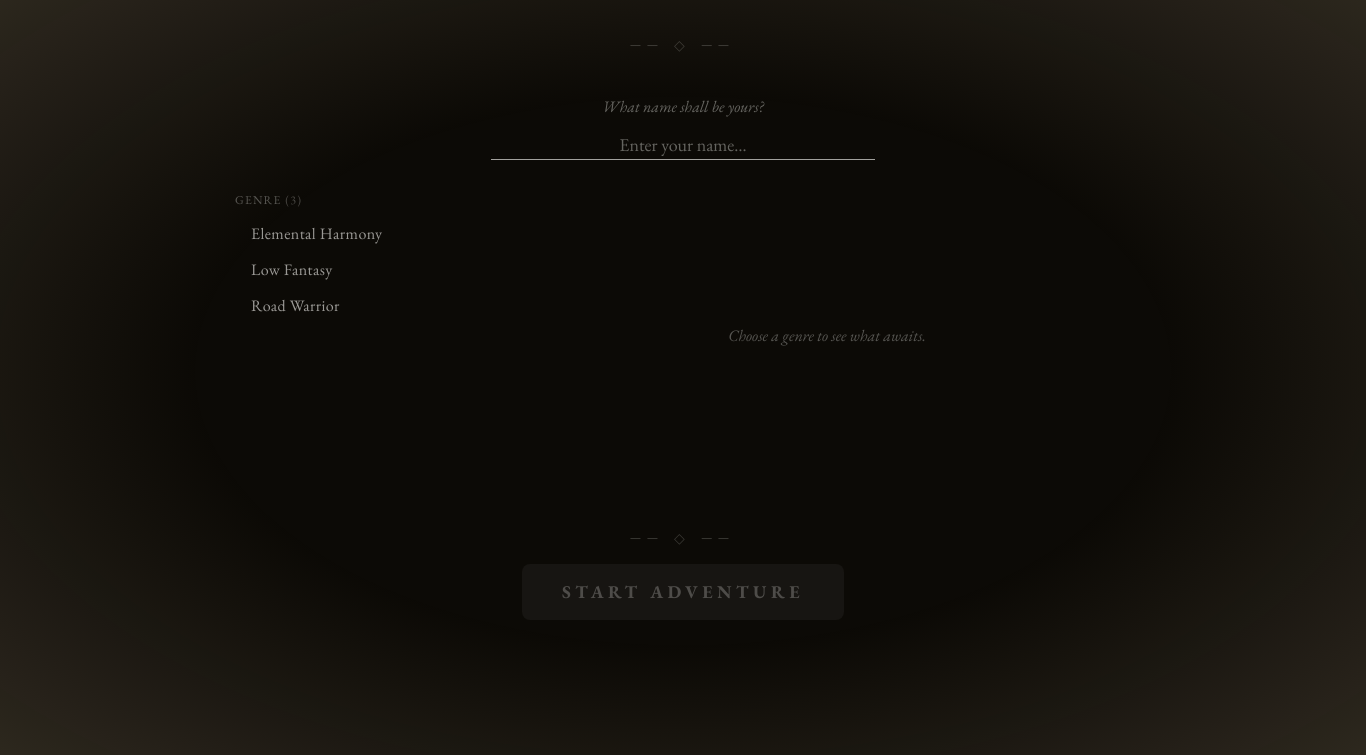
Test case: AC-1: new player enters character creation › displays the first scene narration text
Type "TestHero" into the field named "player name".
click(683, 146); type("TestHero")  # box [491,131,875,160]
Wait 100 ms
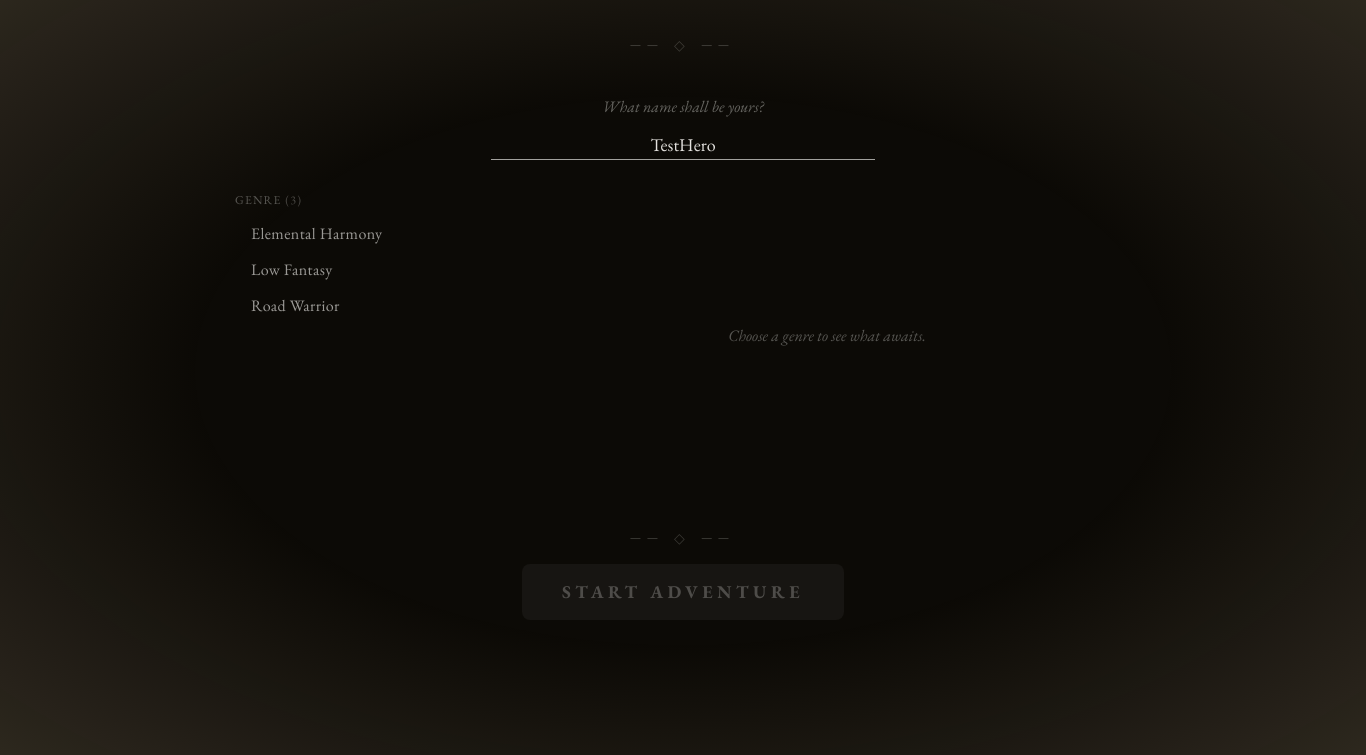
Click the radio button labelled "Low Fantasy".
click(358, 270)  # box [235,252,481,288]
Wait 100 ms
(page scrolled)
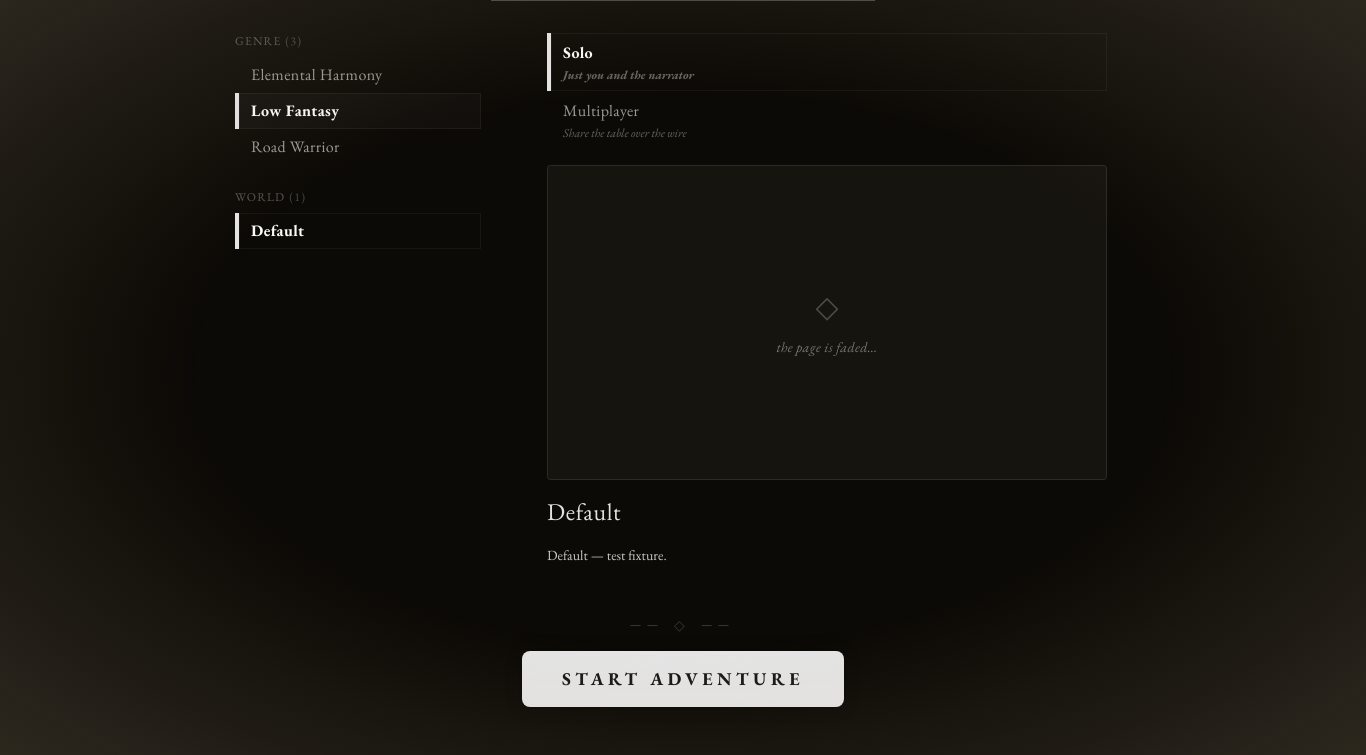
Click the button "Start Adventure".
click(683, 679)  # box [522,651,844,707]
Wait 600 ms
(page scrolled)
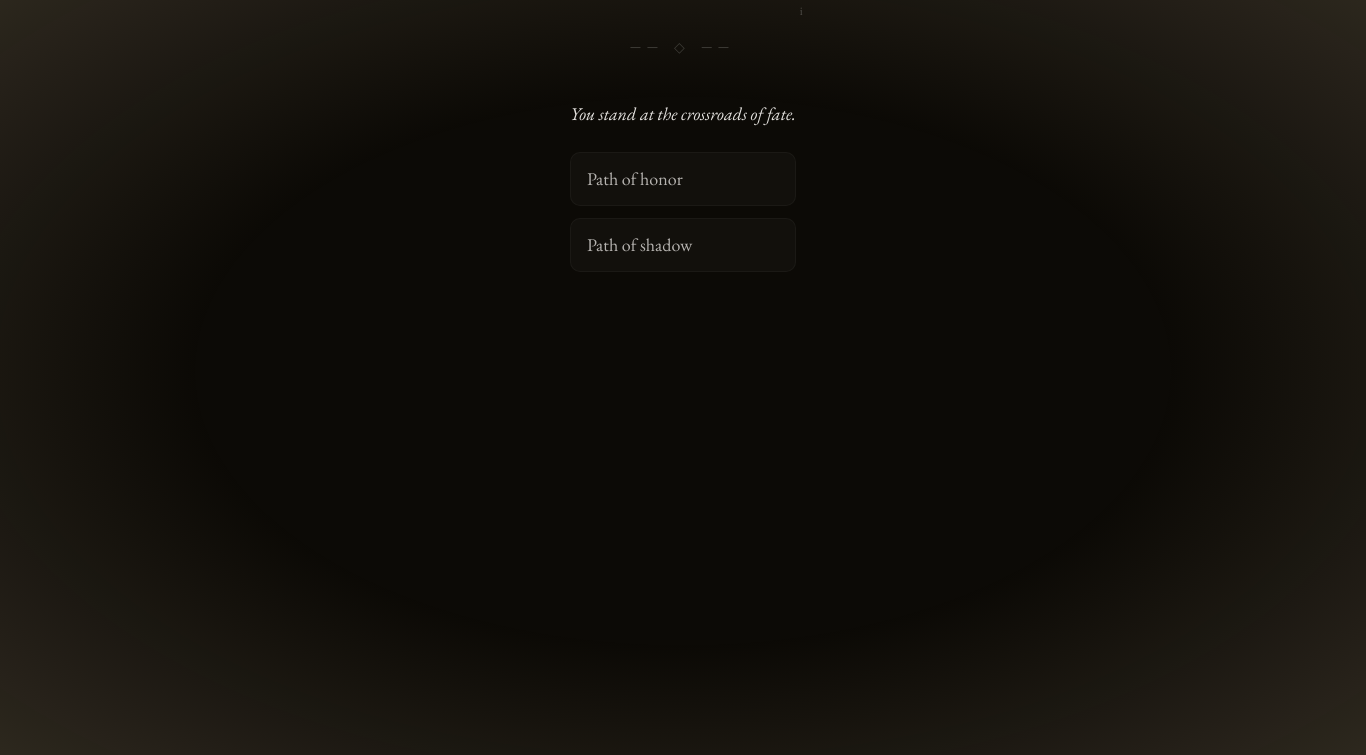
Check: the text "You stand at the crossroads of fate." is shown, box [570,99,796,128]
